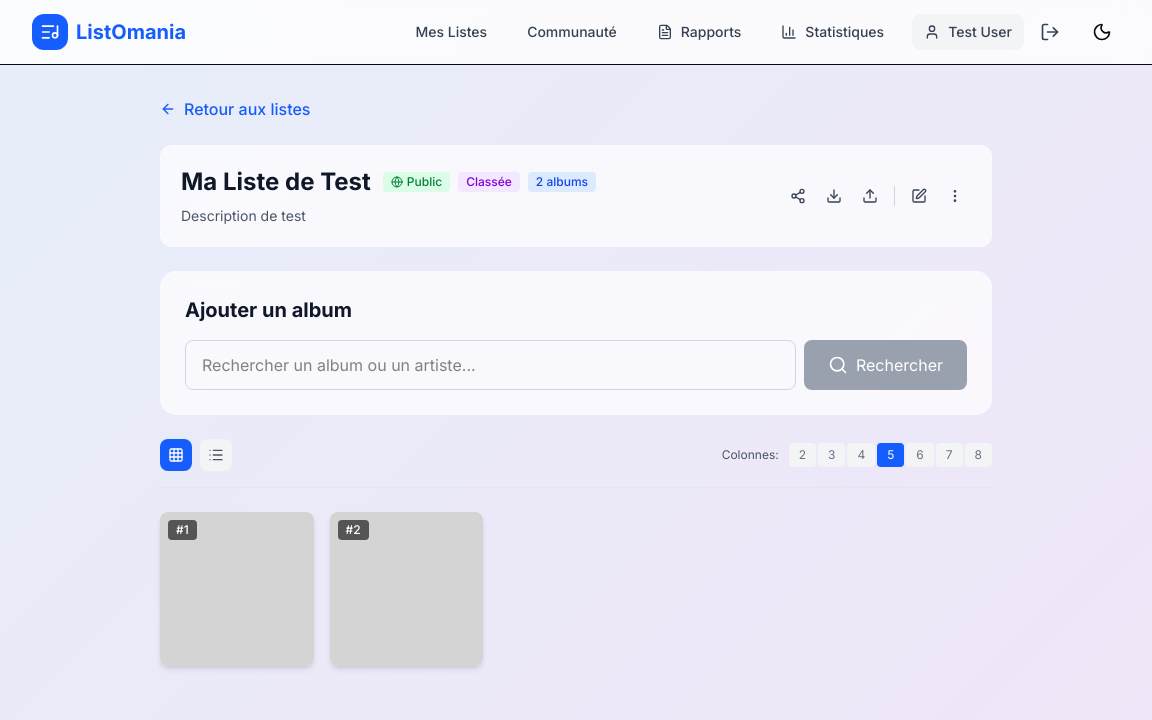
Test: Export Image Feature › affiche le bouton d'export d'image dans le menu
Check: the heading "Ma Liste de Test" is shown, box 181,166 -> 371,198
Click the button titled "Exporter" at (834,196), box 818,180 -> 850,212
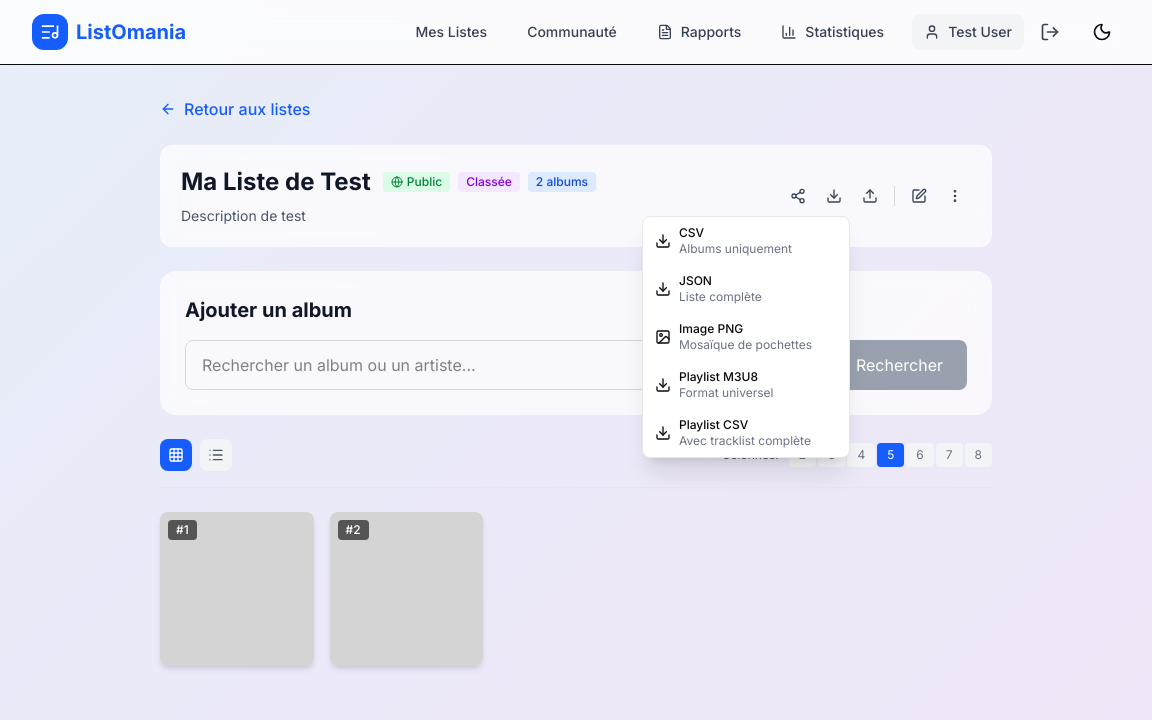
Check: the text "Image PNG" is shown, box 679,321 -> 743,336
